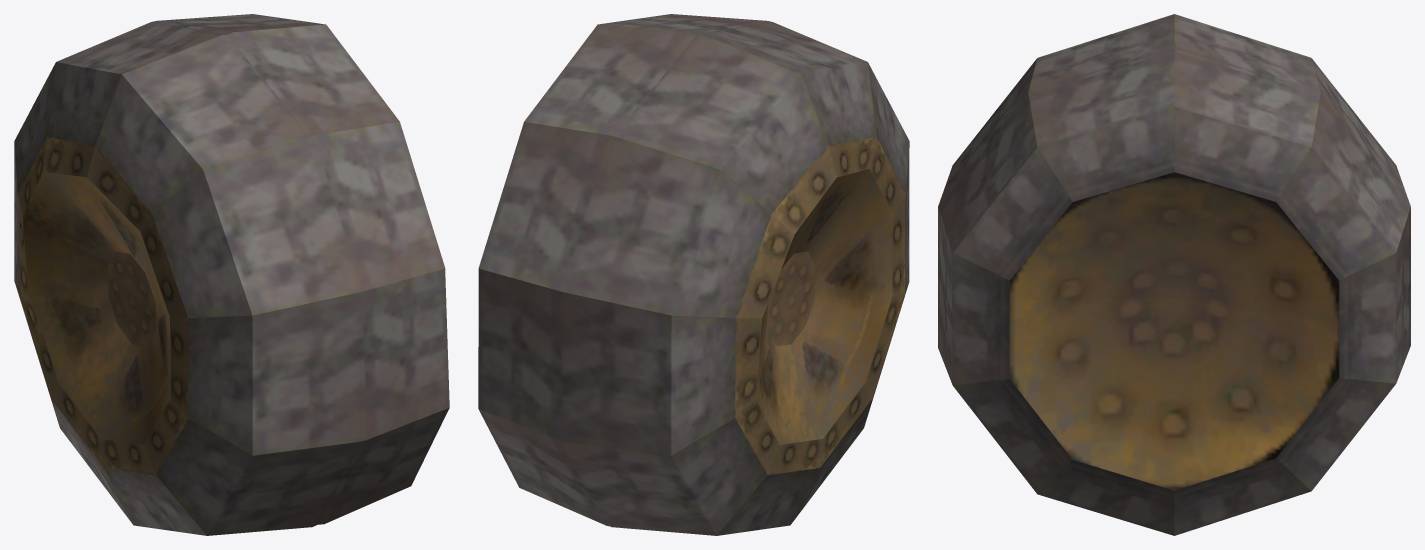
File: wheel02.fbx
3 views of the same model, side by side, from view 1: azimuth 30°, elevation 25°; view 2: azimuth 150°, elevation 25°; view 3: azimuth 270°, elevation 25° (orthographic). The views are drawn at different scales.
Parts seen in each view (by area): view 1: polySurface215_2, polySurface215_1; view 2: polySurface215_2, polySurface215_1; view 3: polySurface215_2, polySurface215_1.
Part boxes in pixels (<box>): polySurface215_2: <box>14,21,449,524</box>; polySurface215_1: <box>14,14,445,535</box>; polySurface215_2: <box>478,21,909,526</box>; polySurface215_1: <box>478,14,909,535</box>; polySurface215_2: <box>938,14,1410,535</box>; polySurface215_1: <box>938,49,1410,324</box>.
Size of the model in its own units: 0.7267 by 1.23 by 1.17.
